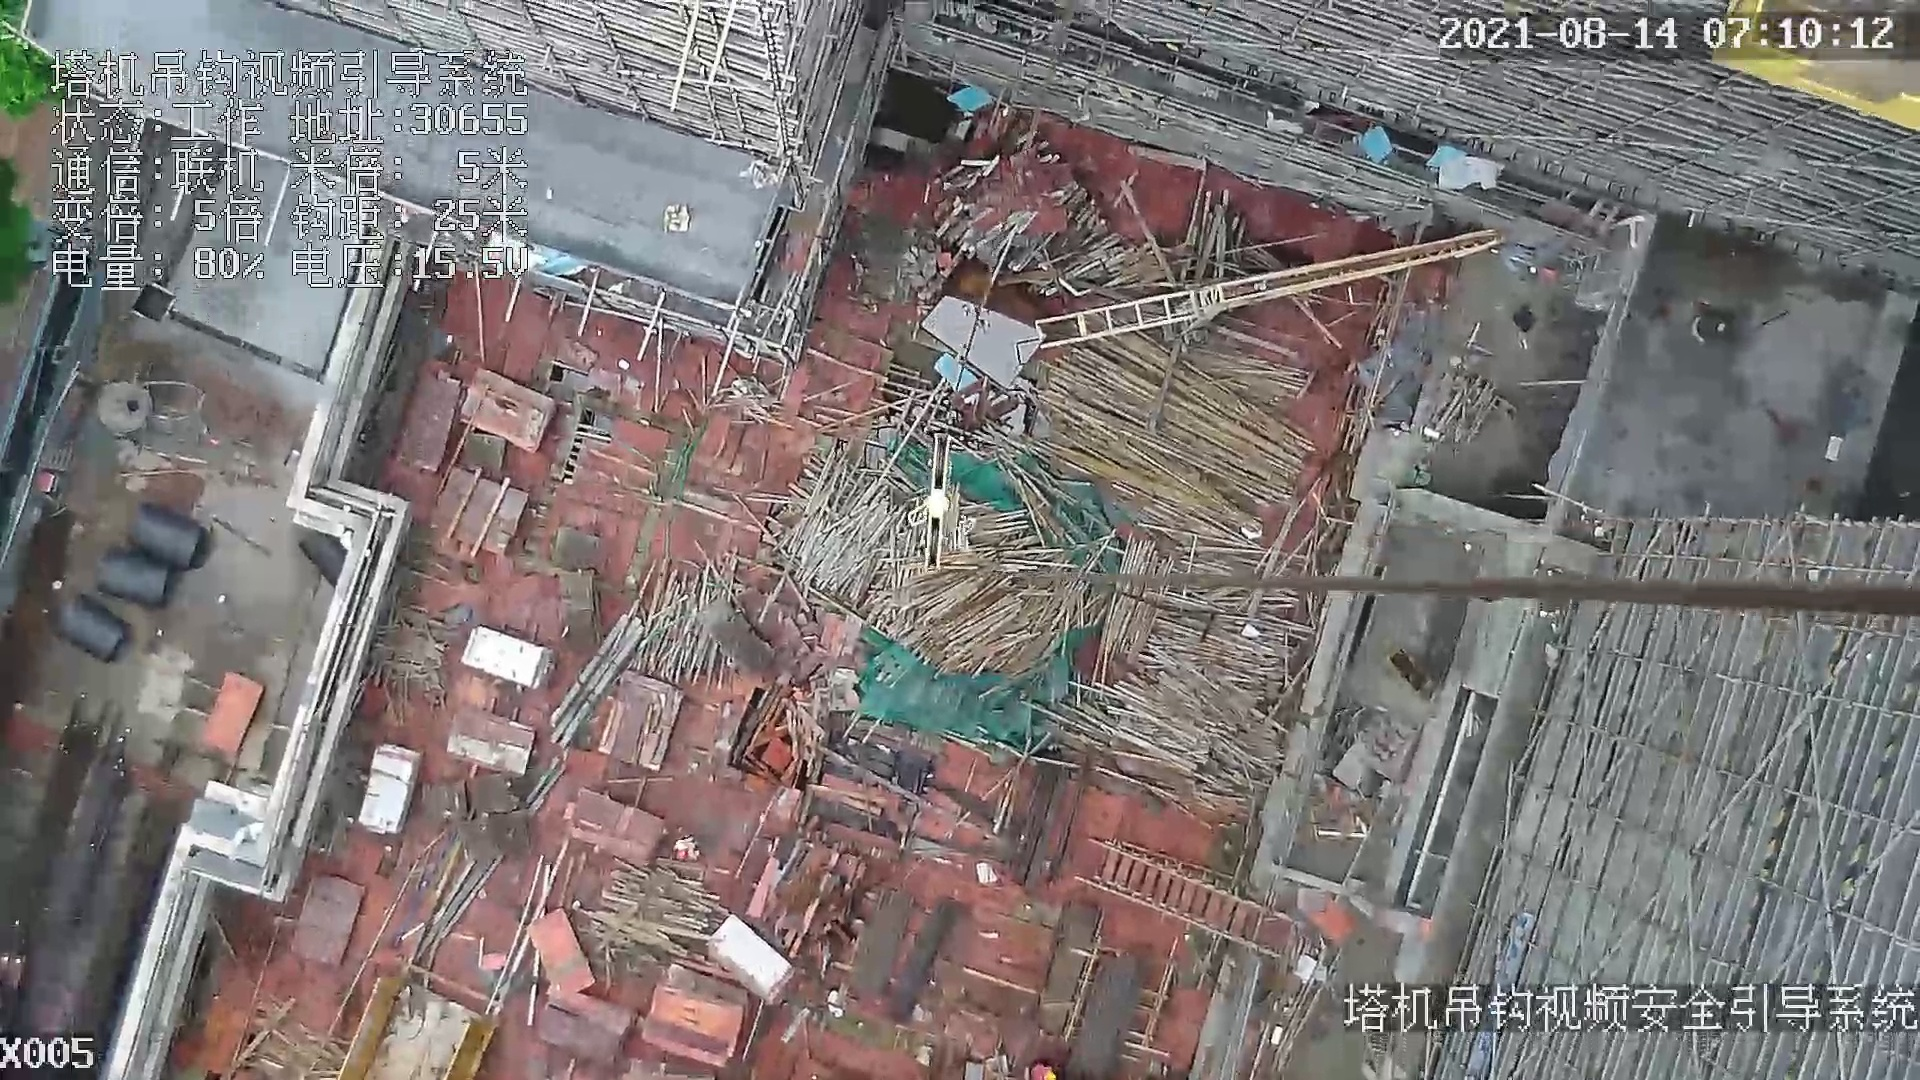helmet: (676, 849, 688, 861)
hook: (910, 430, 956, 574)
person: (667, 835, 700, 856)
